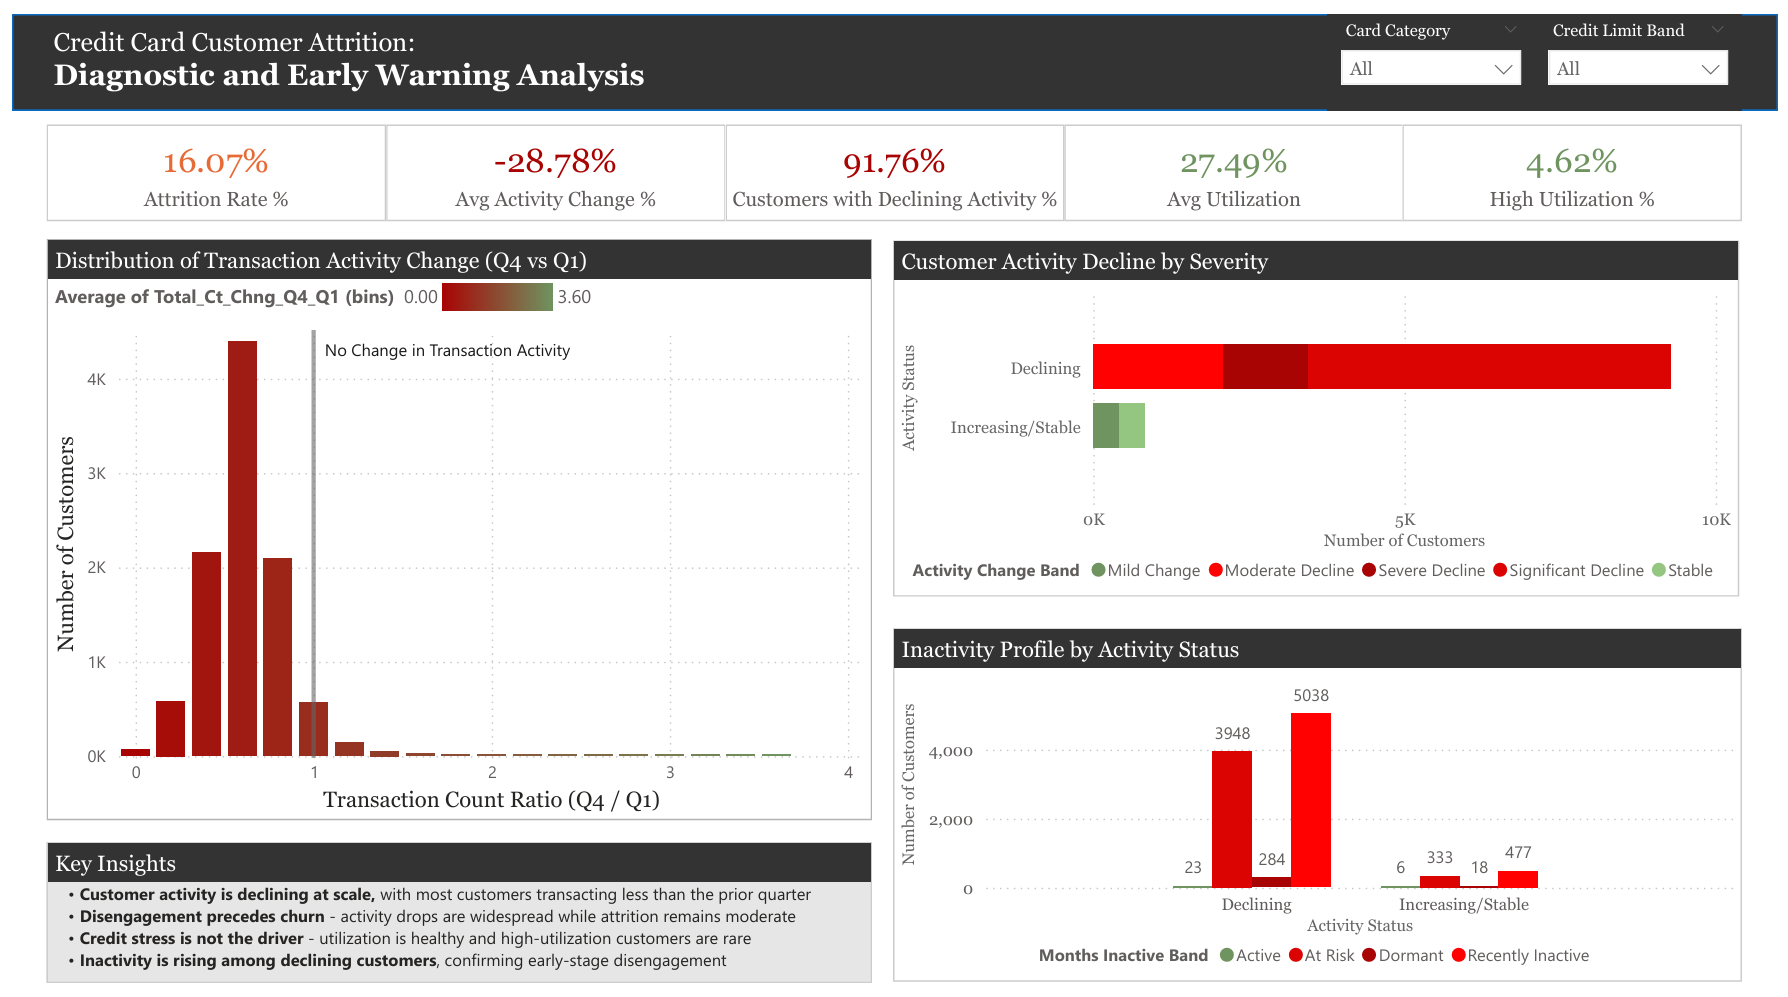

The dashboard page shown, as its layout file describes it:
{"tool":"powerbi","page":{"name":"Executive Overview","canvas":[1280,720],"ordinal":0},"visuals":[{"type":"card","fields":{"Values":["raw_data.Attrition Rate %"]},"box":[24.6,80.3,245.9,70],"z":0,"group":"g1"},{"type":"clusteredColumnChart","title":"Distribution of Transaction Activity Change (Q4 vs Q1)","fields":{"Category":["raw_data.Total_Ct_Chng_Q4_Q1 (bins)"],"Y":["Count(raw_data.CLIENTNUM)"]},"box":[24.7,163,598.2,420.7],"z":0},{"type":"card","fields":{"Values":["raw_data.Avg Activity Change Ratio"]},"box":[270.5,80.3,245.9,70],"z":1000,"group":"g1"},{"type":"barChart","title":"Customer Activity Decline by Severity","fields":{"Category":["raw_data.Activity Status"],"Y":["Count(raw_data.CLIENTNUM)"],"Series":["raw_data.Activity Change Band"]},"box":[639,163.5,613.3,258.9],"z":1000},{"type":"card","fields":{"Values":["raw_data.Declining Activity %"]},"box":[516.4,80.3,245.9,70],"z":2000,"group":"g1"},{"type":"clusteredColumnChart","title":"Inactivity Profile by Activity Status","fields":{"Category":["raw_data.Activity Status"],"Y":["Count(raw_data.CLIENTNUM)"],"Series":["raw_data.Months Inactive Band"]},"box":[639,445.2,614.8,255.9],"z":2000},{"type":"shape","box":[0,0,1279.5,69.7],"z":3000},{"type":"card","fields":{"Values":["raw_data.Avg Utilization"]},"box":[762.2,80.3,245.9,70],"z":3000,"group":"g1"},{"type":"slicer","fields":{"Values":["raw_data.Card_Category"]},"box":[953.9,0,149.9,69.7],"z":4000},{"type":"card","fields":{"Values":["raw_data.High Utilization %"]},"box":[1007.6,80.3,245.9,70],"z":4000,"group":"g1"},{"type":"textbox","box":[25,4.5,460.3,60.6],"z":6000},{"type":"group","id":"g1","title":"Group 1","box":[24.6,80.3,1229.5,69.7],"z":7000},{"type":"slicer","fields":{"Values":["raw_data.Tenure Band"]},"box":[1104,0,149.9,69.7],"z":8000},{"type":"textbox","title":"Key Insights","box":[24.7,599.7,598.2,101.9],"z":9000}]}

Visuals, with their boxes in screenshot pixels (x1, y1, x2, y2), scaled from the page's 1280x720 canvas onto the 1788x997 screenshot:
card - raw_data.Attrition Rate %: region(34, 111, 378, 208)
"Distribution of Transaction Activity Change (Q4 vs Q1)" clusteredColumnChart: region(35, 226, 870, 808)
card - raw_data.Avg Activity Change Ratio: region(378, 111, 721, 208)
"Customer Activity Decline by Severity" barChart: region(893, 226, 1749, 585)
card - raw_data.Declining Activity %: region(721, 111, 1065, 208)
"Inactivity Profile by Activity Status" clusteredColumnChart: region(893, 616, 1751, 971)
shape: region(0, 0, 1787, 97)
card - raw_data.Avg Utilization: region(1065, 111, 1408, 208)
slicer - raw_data.Card_Category: region(1332, 0, 1542, 97)
card - raw_data.High Utilization %: region(1407, 111, 1751, 208)
textbox: region(35, 6, 678, 90)
"Group 1" group: region(34, 111, 1752, 208)
slicer - raw_data.Tenure Band: region(1542, 0, 1752, 97)
"Key Insights" textbox: region(35, 830, 870, 972)
